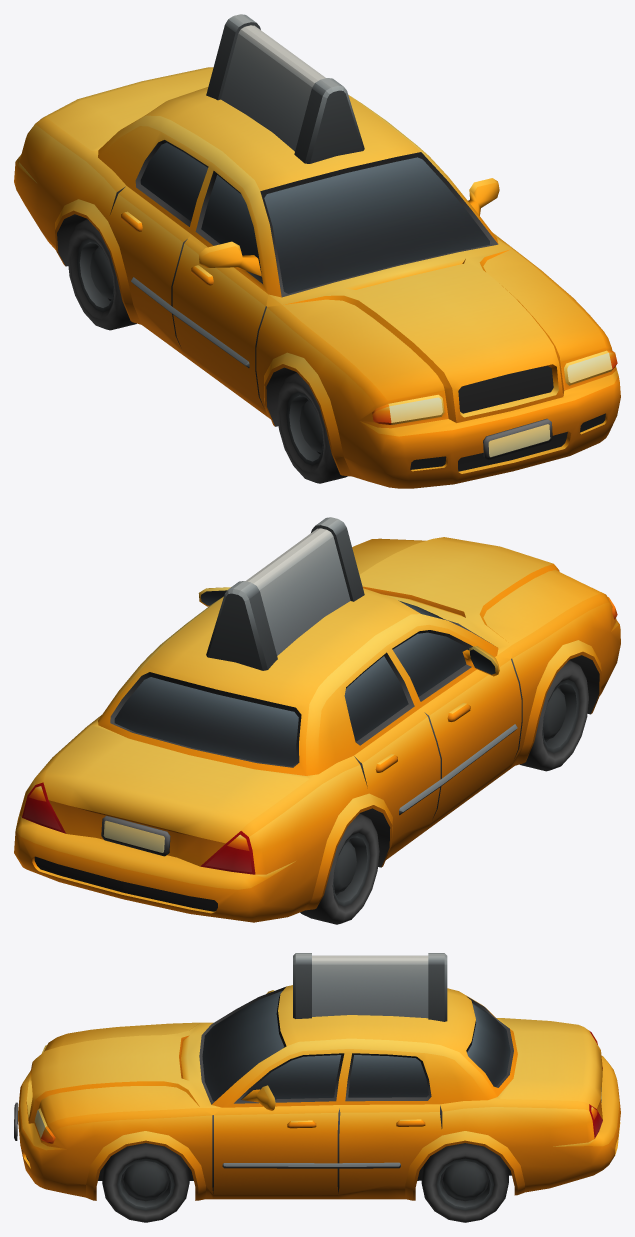
File: VHC0110010.FBX
3 views of the same model, one above another, from view 1: azimuth 30°, elevation 25°; view 2: azimuth 150°, elevation 25°; view 3: azimuth 270°, elevation 25° (orthographic). The views are drawn at different scales.
Visible parts, largest first — view 1: smVHC0110010; view 2: smVHC0110010; view 3: smVHC0110010.
Part boxes in pixels (<box>): smVHC0110010: <box>14,14,620,488</box>; smVHC0110010: <box>14,517,620,924</box>; smVHC0110010: <box>14,953,620,1222</box>.
Bounding box in the file's own units: 1.6 × 1.49 × 3.7.
Materials: 1 (1 with a texture image).
